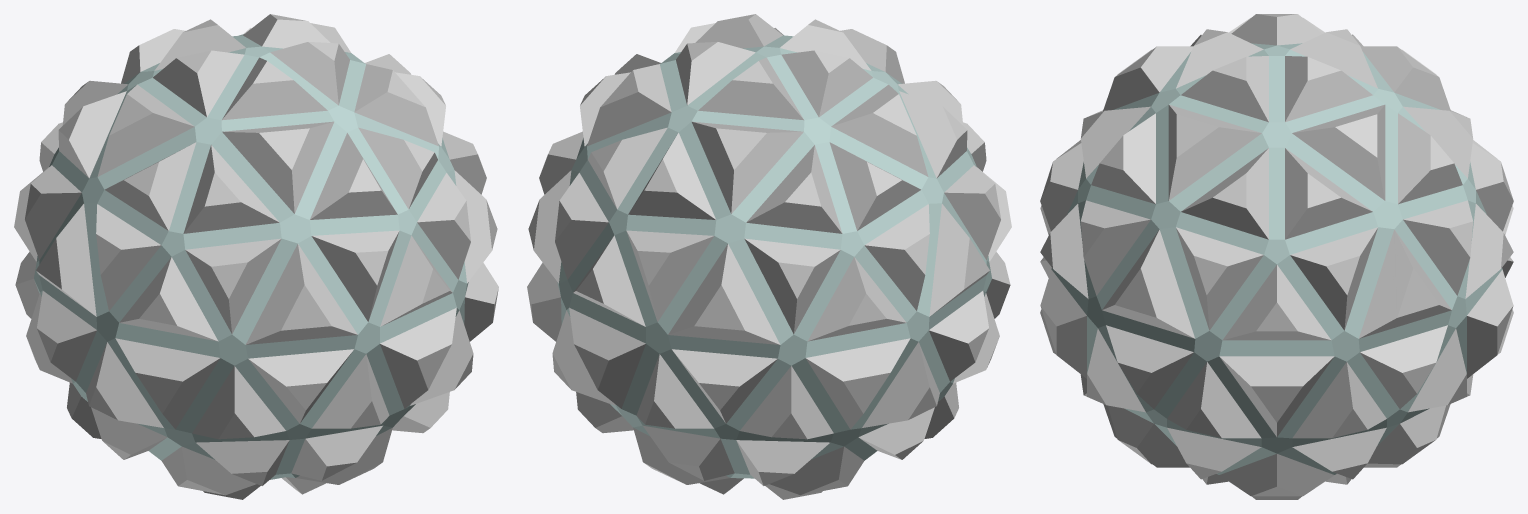
Rendered from Magnet Ball .fbx.
3 renders of one model, left to right at view 1: azimuth 30°, elevation 25°; view 2: azimuth 150°, elevation 25°; view 3: azimuth 270°, elevation 25°, orthographic.
Parts seen in each view (by area): view 1: Icosphere; view 2: Icosphere; view 3: Icosphere.
Part boxes in pixels (<box>): Icosphere: <box>14,14,498,499</box>; Icosphere: <box>527,14,1011,499</box>; Icosphere: <box>1040,14,1513,499</box>.
Size of the model in its own units: 374 by 372 by 366.
